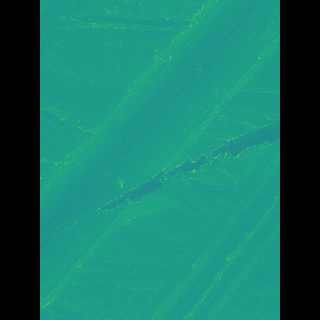Loch: (69, 0, 250, 314), (141, 141, 250, 319), (103, 117, 251, 214)
